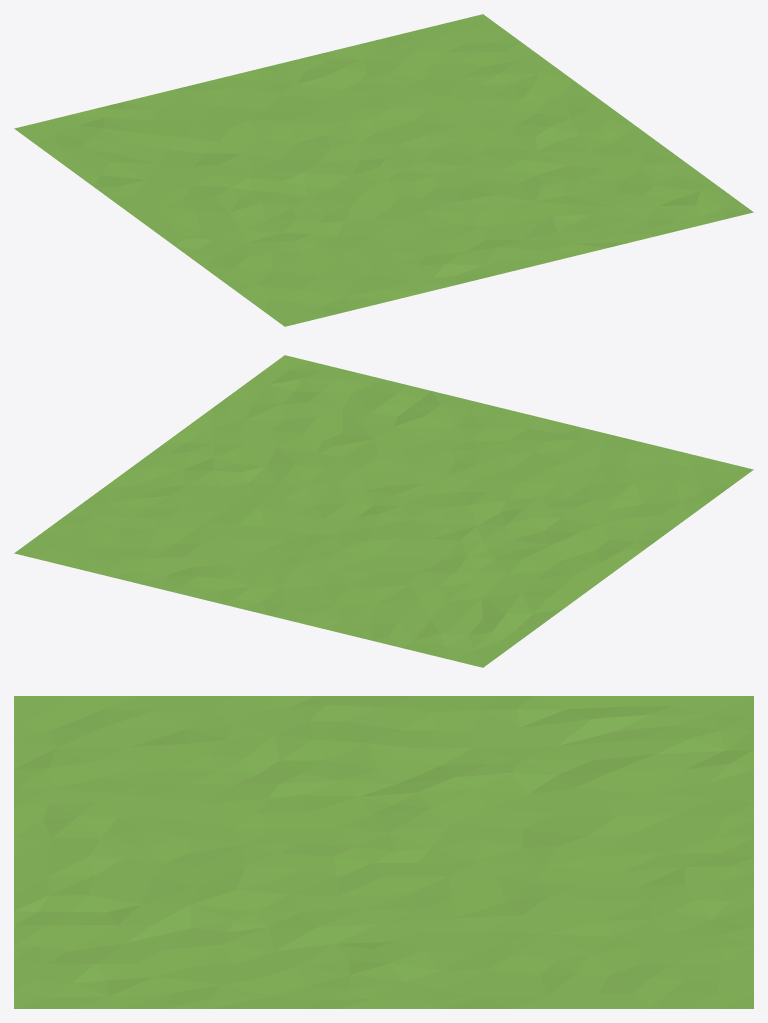
The model's file is MT_Terrain_M_a_01.fbx.
3 renders of one model, top to bottom at view 1: azimuth 30°, elevation 25°; view 2: azimuth 150°, elevation 25°; view 3: azimuth 270°, elevation 25°, orthographic. The views are drawn at different scales.
Visible parts, largest first — view 1: MT_Terrain_M_a_01; view 2: MT_Terrain_M_a_01; view 3: MT_Terrain_M_a_01.
Part boxes in pixels (x1,y1,x2,y2): MT_Terrain_M_a_01: [14, 14, 753, 326]; MT_Terrain_M_a_01: [14, 355, 753, 667]; MT_Terrain_M_a_01: [14, 696, 753, 1008].
Bounding box in the file's own units: 5000 × 20 × 5000.
